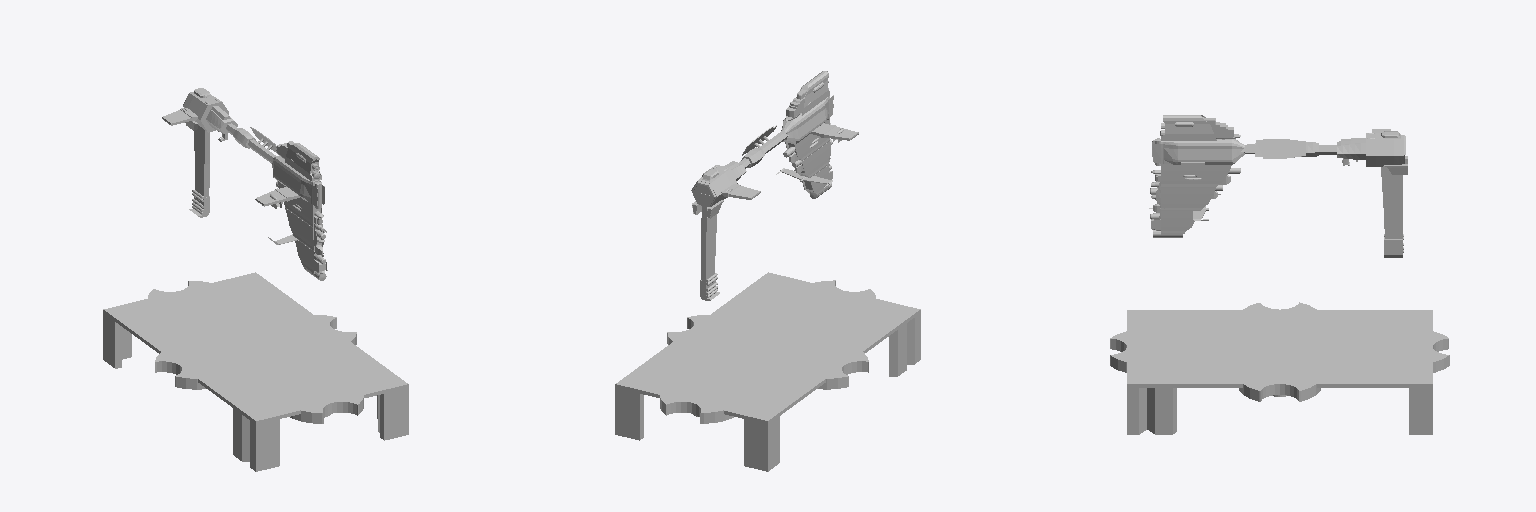
3 views of the same model, side by side, from view 1: azimuth 30°, elevation 25°; view 2: azimuth 150°, elevation 25°; view 3: azimuth 270°, elevation 25° (orthographic).
Parts seen in each view (by area): view 1: Base_-_Small_Plane.019, RVRE_Anodyne_neb-c; view 2: Base_-_Small_Plane.019, RVRE_Anodyne_neb-c; view 3: Base_-_Small_Plane.019, RVRE_Anodyne_neb-c.
Boxes of the visible parts, <box> form: Base_-_Small_Plane.019: <box>103,272,408,471</box>; RVRE_Anodyne_neb-c: <box>162,88,327,280</box>; Base_-_Small_Plane.019: <box>615,272,920,471</box>; RVRE_Anodyne_neb-c: <box>691,71,858,300</box>; Base_-_Small_Plane.019: <box>1110,302,1449,434</box>; RVRE_Anodyne_neb-c: <box>1149,115,1407,257</box>.
Bounding box in the file's own units: 1.92 × 2.86 × 3.11.